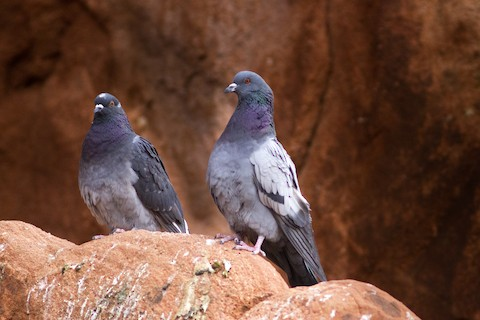pigeon: (198, 70, 335, 290), (73, 88, 194, 241)
